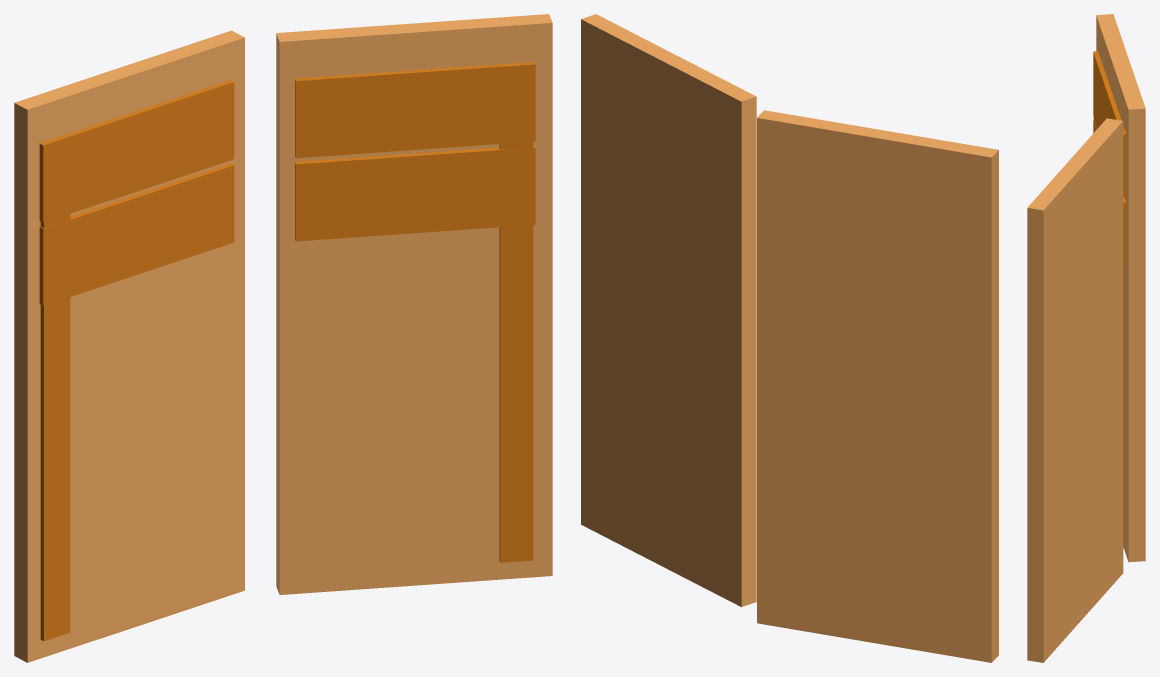
The model's file is mon.fbx.
3 views of the same model, side by side, from view 1: azimuth 30°, elevation 25°; view 2: azimuth 150°, elevation 25°; view 3: azimuth 270°, elevation 25° (orthographic). The views are drawn at different scales.
Visible parts, largest first — view 1: Cube; view 2: Cube; view 3: Cube.
Boxes of the visible parts, bbox=[...] form: Cube: bbox=[14, 14, 552, 662]; Cube: bbox=[581, 14, 998, 662]; Cube: bbox=[1027, 14, 1145, 662].
Size of the model in its own units: 78.85 by 84.7 by 20.1.
